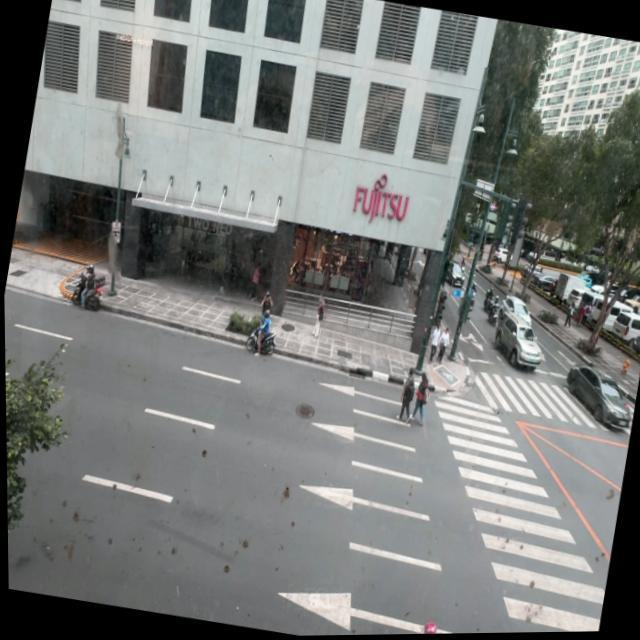jaywalking: (408, 370, 434, 426), (394, 366, 419, 424)
